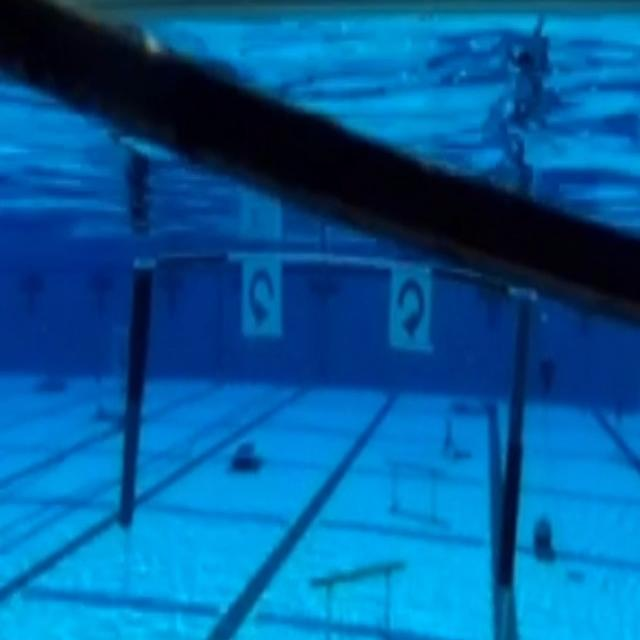Gate: (110, 246, 540, 596)
